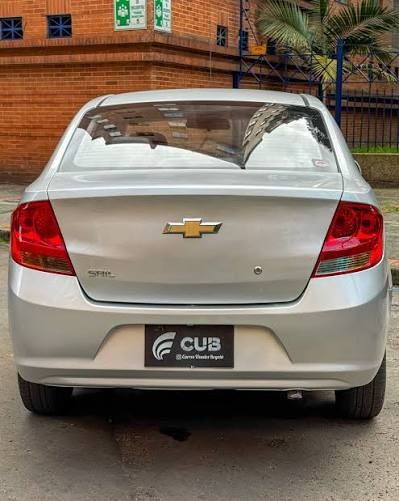car: (9, 66, 389, 435)
